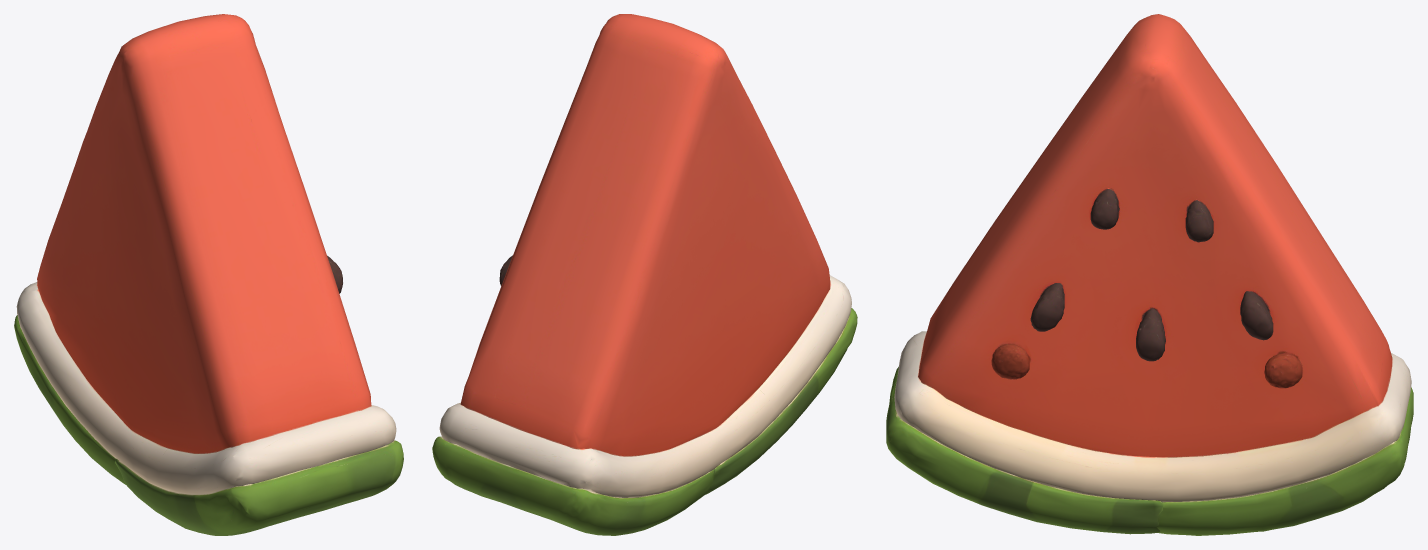
The model's file is watermelon_slice.glb.
3 views of the same model, side by side, from view 1: azimuth 30°, elevation 25°; view 2: azimuth 150°, elevation 25°; view 3: azimuth 270°, elevation 25° (orthographic). The views are drawn at different scales.
Parts seen in each view (by area): view 1: tripo_node_6ebc1710-9ee7-45aa-ad4f-b932a8c435ff; view 2: tripo_node_6ebc1710-9ee7-45aa-ad4f-b932a8c435ff; view 3: tripo_node_6ebc1710-9ee7-45aa-ad4f-b932a8c435ff.
Part boxes in pixels (x1,y1,x2,y2): tripo_node_6ebc1710-9ee7-45aa-ad4f-b932a8c435ff: [14, 14, 403, 535]; tripo_node_6ebc1710-9ee7-45aa-ad4f-b932a8c435ff: [432, 14, 857, 535]; tripo_node_6ebc1710-9ee7-45aa-ad4f-b932a8c435ff: [886, 14, 1413, 535].
Size of the model in its own units: 0.4316 by 0.9824 by 0.998.
1 material, 1 textured.
